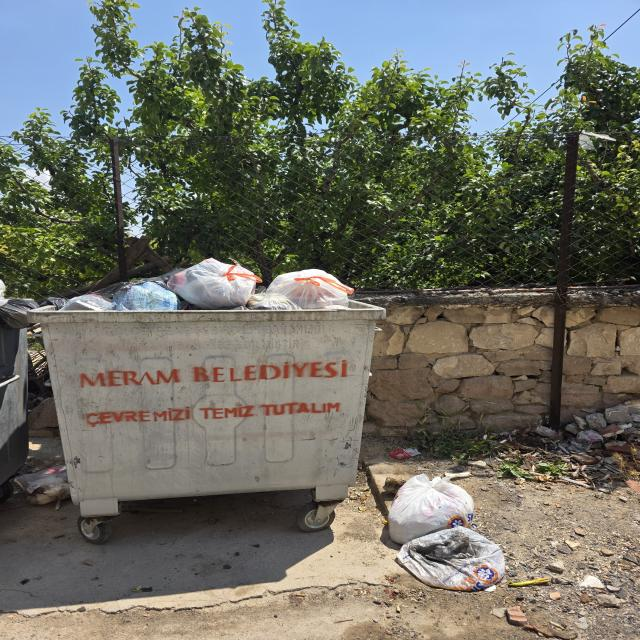garbage: (369, 476, 522, 596), (42, 260, 372, 314)
